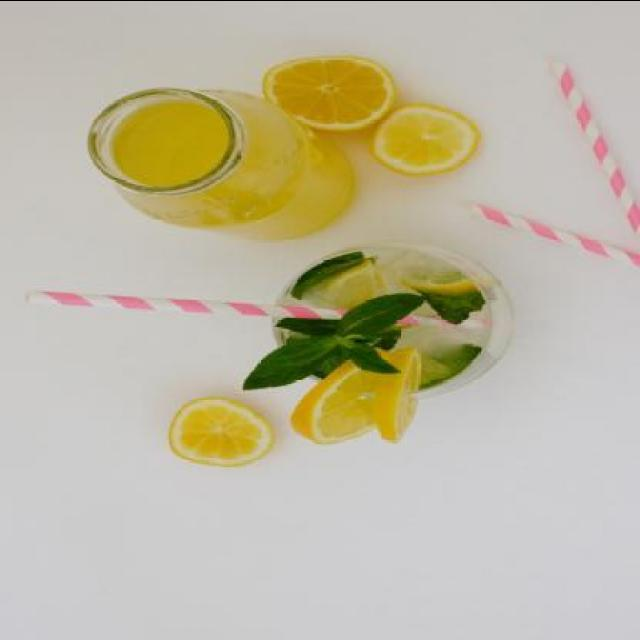Lemon: (262, 55, 400, 131), (291, 352, 389, 444), (370, 99, 482, 175), (169, 394, 277, 468), (375, 349, 423, 440), (394, 255, 478, 297), (328, 259, 380, 303)
